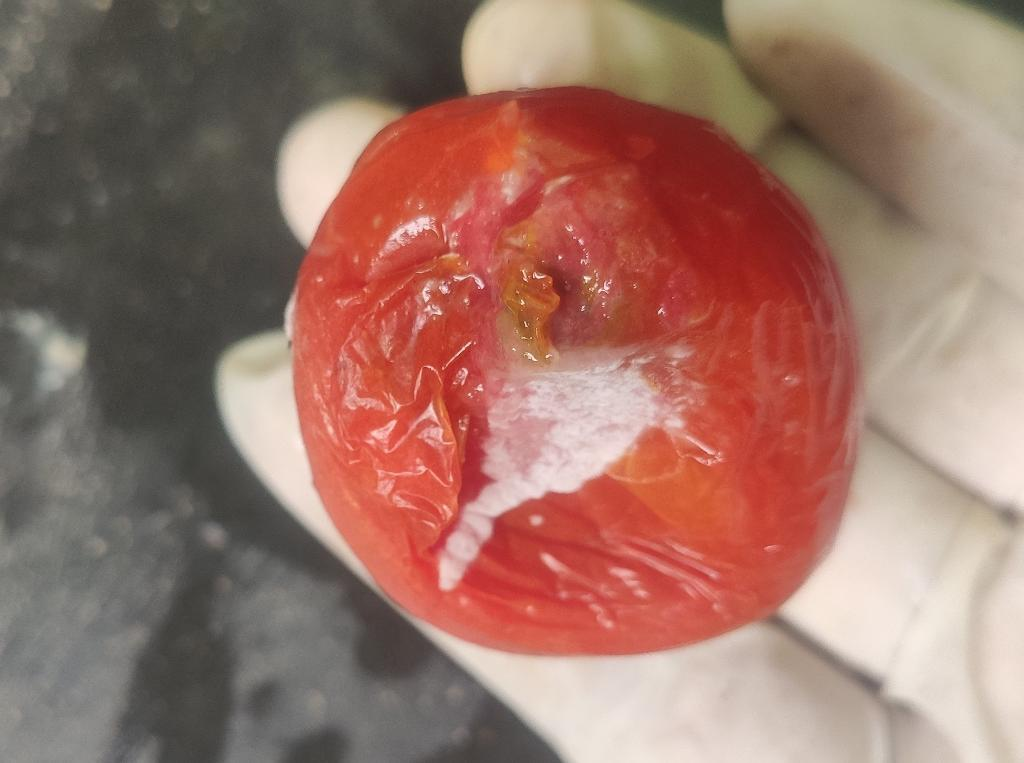rot_mold_decay: (438, 349, 690, 591), (500, 209, 618, 369)
tomato: (293, 88, 860, 655)
